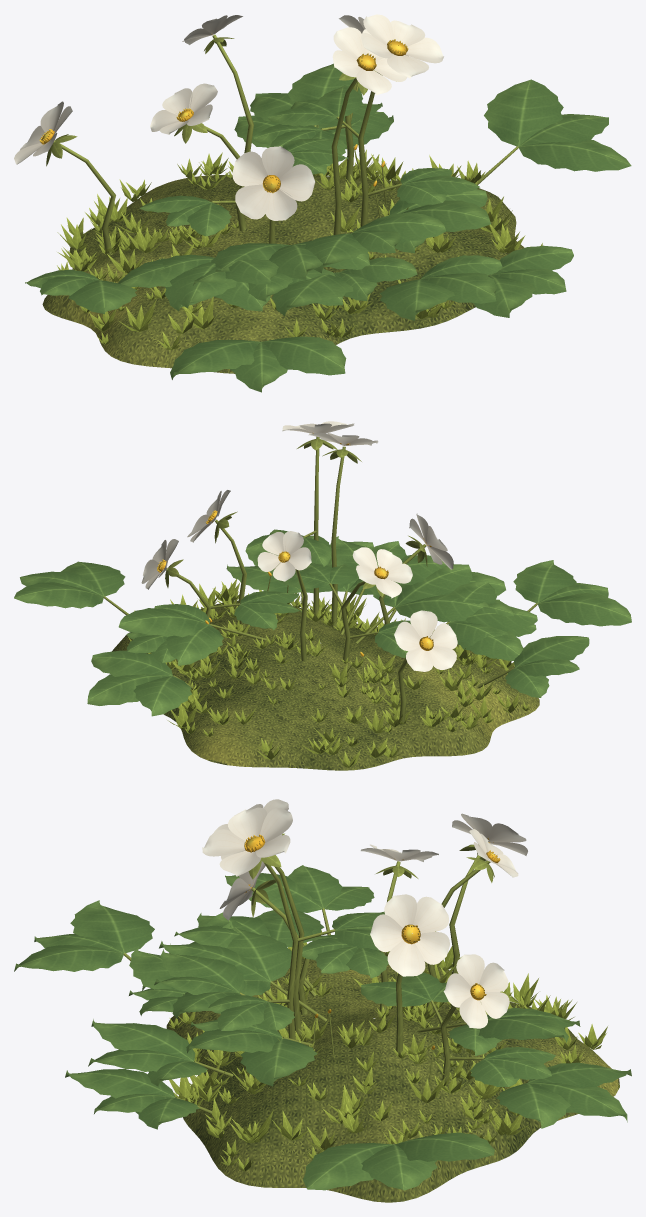
Rendered from SM_Valley_WoodlandBlossoms.fbx.
3 renders of one model, top to bottom at view 1: azimuth 30°, elevation 25°; view 2: azimuth 150°, elevation 25°; view 3: azimuth 270°, elevation 25°, orthographic. The views are drawn at different scales.
Parts seen in each view (by area): view 1: SM_Valley_WoodlandBlossoms; view 2: SM_Valley_WoodlandBlossoms; view 3: SM_Valley_WoodlandBlossoms.
Boxes of the visible parts, <box> form: SM_Valley_WoodlandBlossoms: <box>14,14,631,392</box>; SM_Valley_WoodlandBlossoms: <box>14,421,631,770</box>; SM_Valley_WoodlandBlossoms: <box>14,799,631,1202</box>.
Size of the model in its own units: 0.7652 by 0.63 by 0.329.
2 materials, 2 textured.
